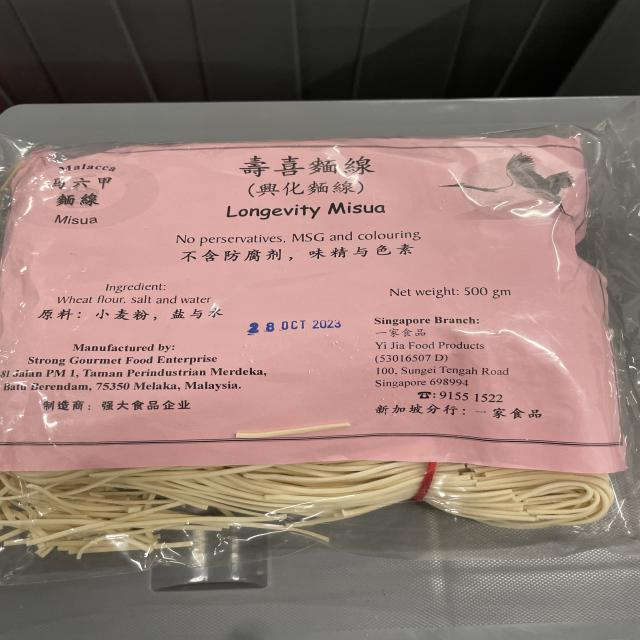object_name: (6, 144, 635, 516)
